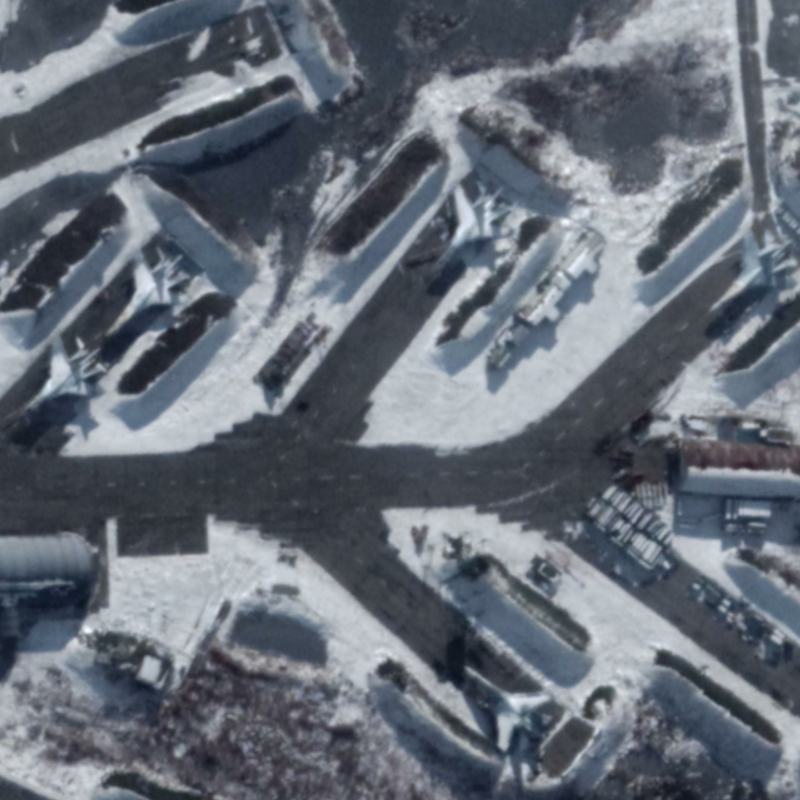A1: (420, 179, 514, 295), (701, 225, 800, 324), (11, 330, 112, 426), (101, 241, 195, 343), (459, 661, 553, 754)
